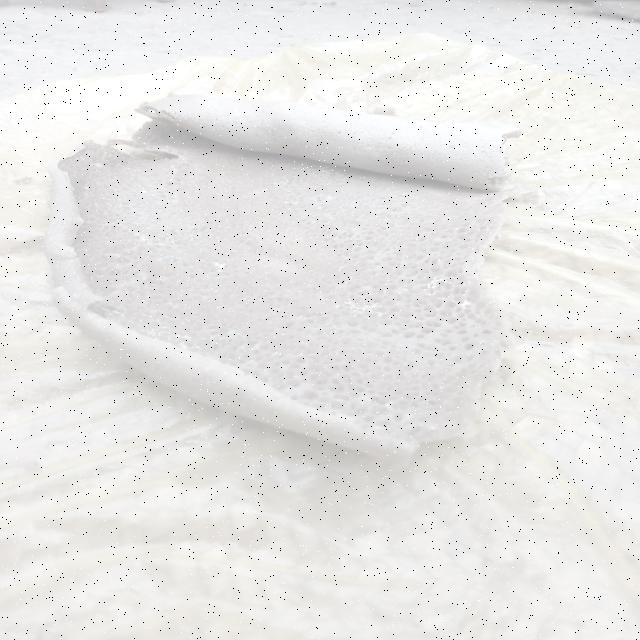injera_mold: (333, 298, 385, 318), (214, 328, 248, 349), (386, 402, 415, 424), (94, 294, 122, 316), (133, 231, 168, 248), (425, 276, 454, 292), (155, 254, 183, 266), (211, 260, 229, 274), (312, 192, 331, 204), (455, 300, 473, 312), (51, 296, 66, 308), (284, 197, 300, 207), (164, 302, 182, 310), (446, 141, 459, 152), (72, 292, 83, 304), (427, 423, 438, 432), (254, 188, 267, 195), (186, 234, 198, 240), (92, 162, 104, 168), (228, 247, 236, 255), (140, 189, 148, 194)
